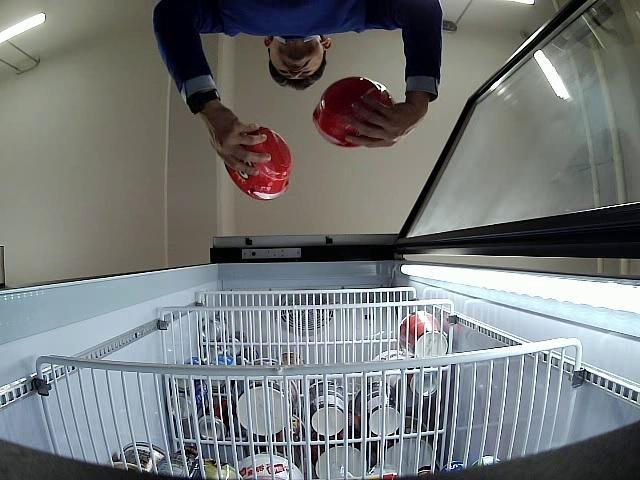10_wangTtukkeong: (314, 77, 394, 148), (226, 123, 290, 201)
